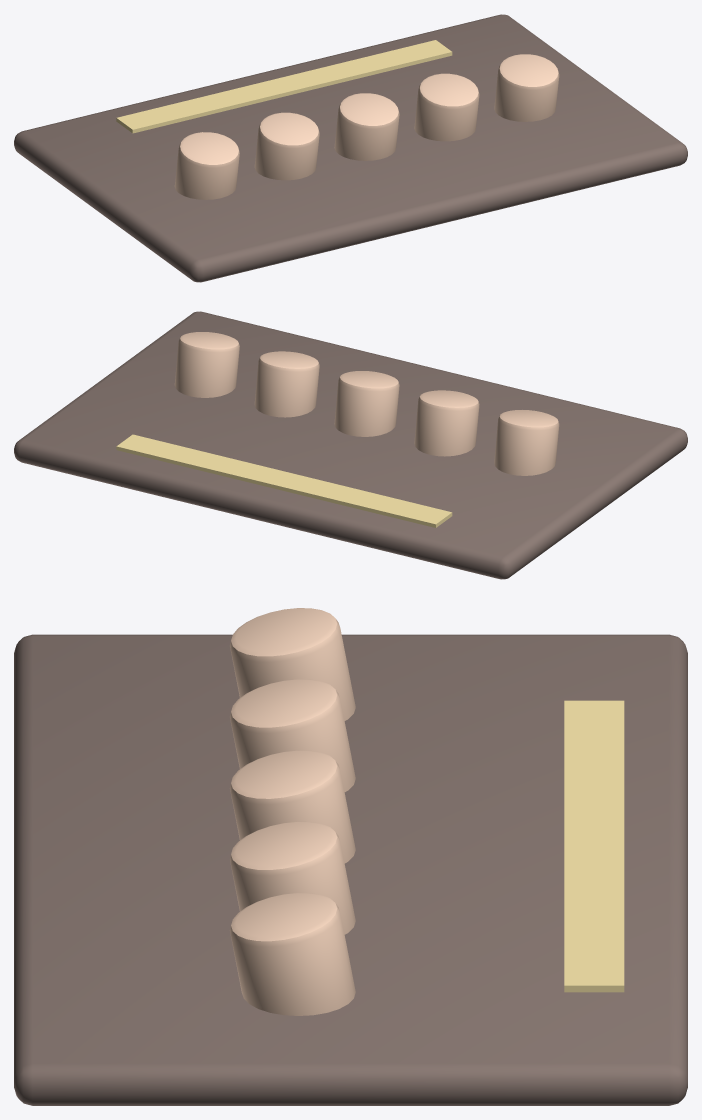
Rendered from set-apricot-pearl.glb.
3 views of the same model, one above another, from view 1: azimuth 30°, elevation 25°; view 2: azimuth 150°, elevation 25°; view 3: azimuth 270°, elevation 25° (orthographic). The views are drawn at different scales.
Visible parts, largest first — view 1: apricot_VelvetCard, apricot_GoldBar, apricot_Tip_1, apricot_Tip_3, apricot_Tip_0, apricot_Tip_2, apricot_Tip_4; view 2: apricot_VelvetCard, apricot_GoldBar, apricot_Tip_3, apricot_Tip_1, apricot_Tip_2, apricot_Tip_0, apricot_Tip_4; view 3: apricot_VelvetCard, apricot_GoldBar, apricot_Tip_4, apricot_Tip_1, apricot_Tip_0, apricot_Tip_2, apricot_Tip_3.
Part boxes in pixels (bbox=[...]): apricot_VelvetCard: bbox=[14, 14, 687, 282]; apricot_GoldBar: bbox=[116, 40, 452, 133]; apricot_Tip_1: bbox=[254, 112, 319, 180]; apricot_Tip_3: bbox=[414, 73, 479, 141]; apricot_Tip_0: bbox=[174, 132, 239, 199]; apricot_Tip_2: bbox=[334, 93, 399, 160]; apricot_Tip_4: bbox=[494, 54, 559, 121]; apricot_VelvetCard: bbox=[14, 311, 687, 579]; apricot_GoldBar: bbox=[116, 434, 452, 527]; apricot_Tip_3: bbox=[254, 351, 319, 417]; apricot_Tip_1: bbox=[414, 390, 479, 456]; apricot_Tip_2: bbox=[334, 371, 399, 436]; apricot_Tip_0: bbox=[494, 410, 559, 475]; apricot_Tip_4: bbox=[174, 332, 239, 397]; apricot_VelvetCard: bbox=[14, 634, 687, 1105]; apricot_GoldBar: bbox=[564, 700, 624, 992]; apricot_Tip_4: bbox=[229, 893, 355, 1015]; apricot_Tip_1: bbox=[230, 679, 355, 791]; apricot_Tip_0: bbox=[230, 608, 355, 720]; apricot_Tip_2: bbox=[229, 750, 355, 863]; apricot_Tip_3: bbox=[230, 821, 355, 934].
Size of the model in its own units: 0.28 by 0.038 by 0.18.
